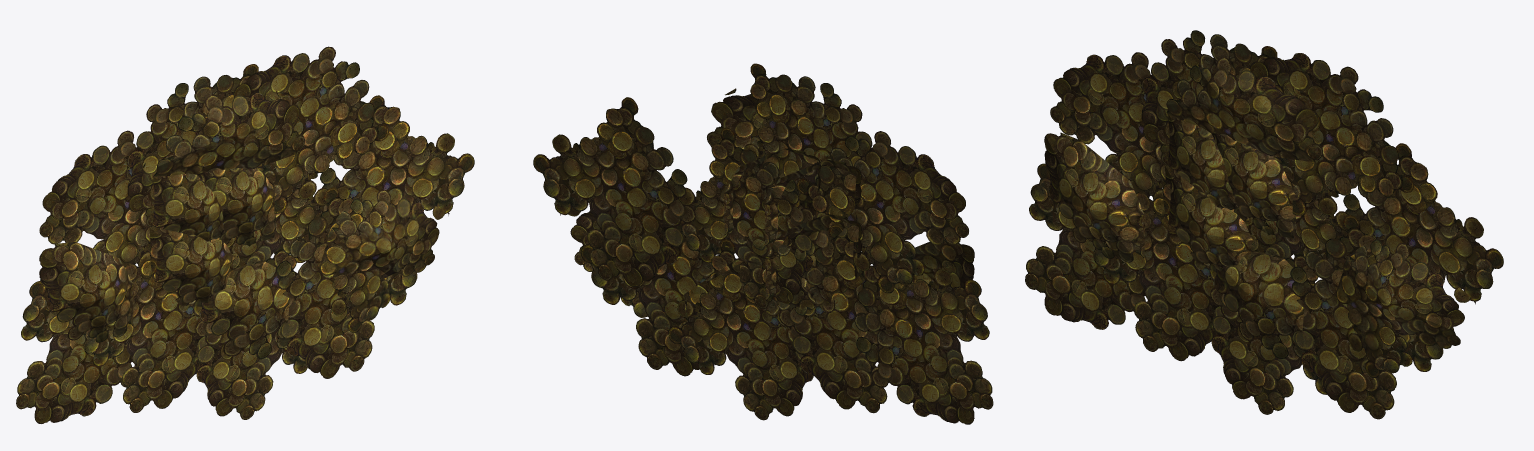
The model's file is yatelandisi_fuben_223_caibaotui02.obj.
3 renders of one model, left to right at view 1: azimuth 30°, elevation 25°; view 2: azimuth 150°, elevation 25°; view 3: azimuth 330°, elevation 25°, orthographic. The views are drawn at different scales.
Parts seen in each view (by area): view 1: yatelandisi_fuben_223_baoxiang; view 2: yatelandisi_fuben_223_baoxiang; view 3: yatelandisi_fuben_223_baoxiang.
Boxes of the visible parts, box(x1,y1,x2,y2) form: yatelandisi_fuben_223_baoxiang: box(16, 46, 474, 423); yatelandisi_fuben_223_baoxiang: box(533, 63, 993, 424); yatelandisi_fuben_223_baoxiang: box(1025, 30, 1503, 419).
Bounding box in the file's own units: 443 × 351 × 26.19.
1 material, 1 textured.
